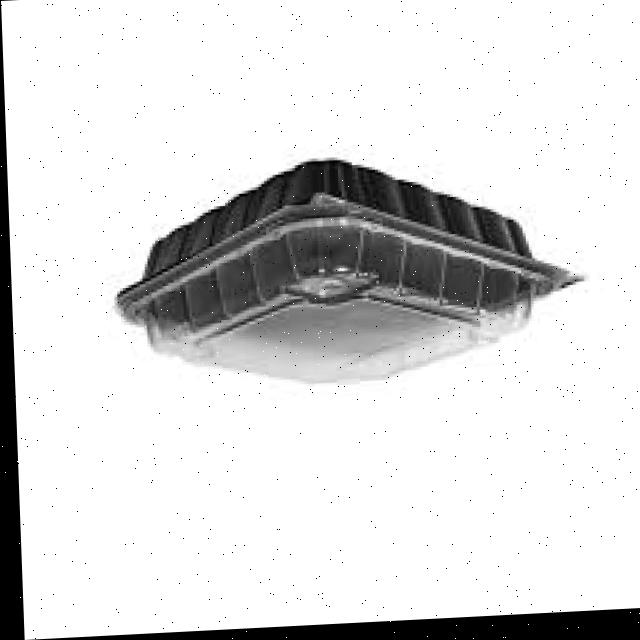disposable: (87, 134, 571, 411)
